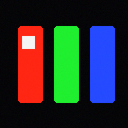1 square: (22, 36, 34, 48)
